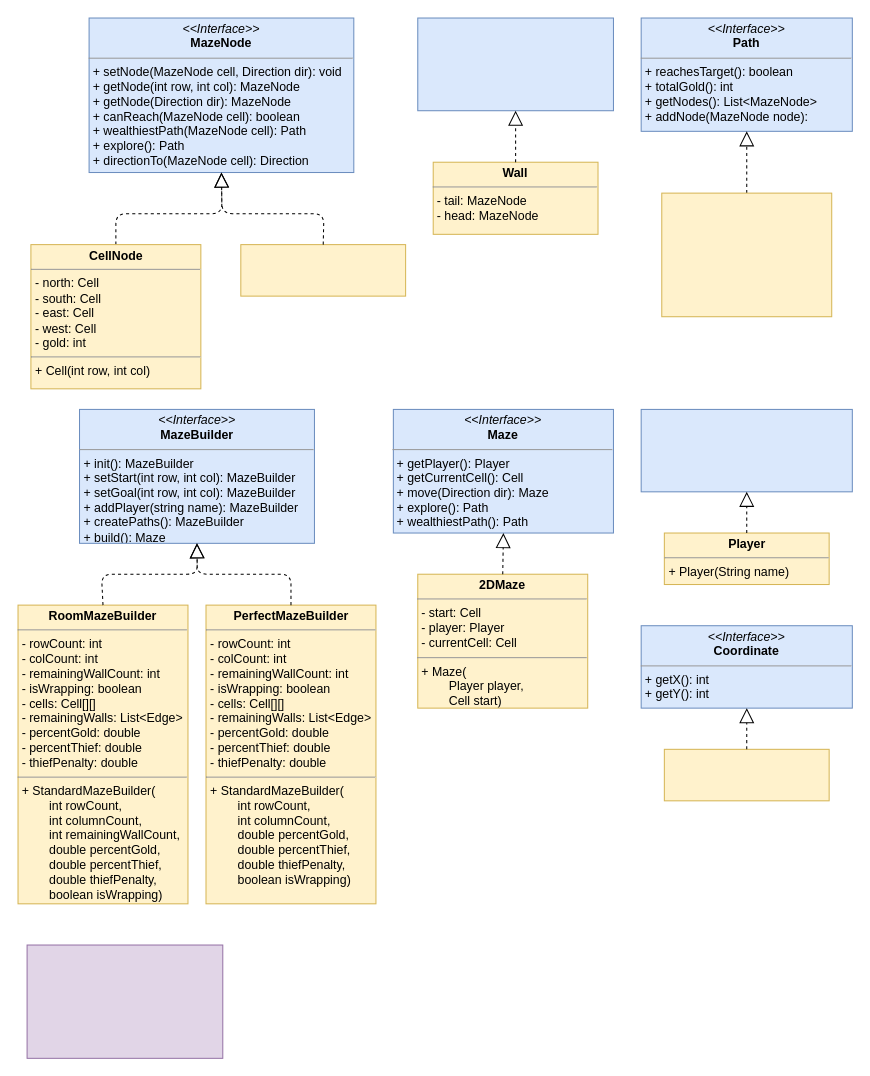
Image size: 870x1076. Some labels were removed from this diagram. The centre of each missing label's shape, as x and y in pixels:
<<Enum>> Direction NORTH EAST SOUTH WEST: the point at 124,1001
<<Interface>> Edge + getTail(): MazeNode + getHead(): MazeNode: the point at 515,64
<<Interface>> Player + getGoldCollected() + lootCell(Cell cell): the point at 746,450
BlockedNode: the point at 323,270
MazeCoordinate + MazeCoordinate(x, y);: the point at 746,774
MazePath - target - totalGold - nodes: List<MazeNode> + MazePath(Cell target): the point at 746,254
